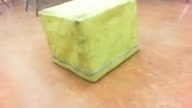cube: (38, 1, 138, 83)
